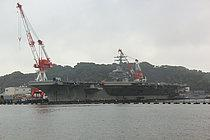MIL_Ship: (27, 56, 192, 103)
